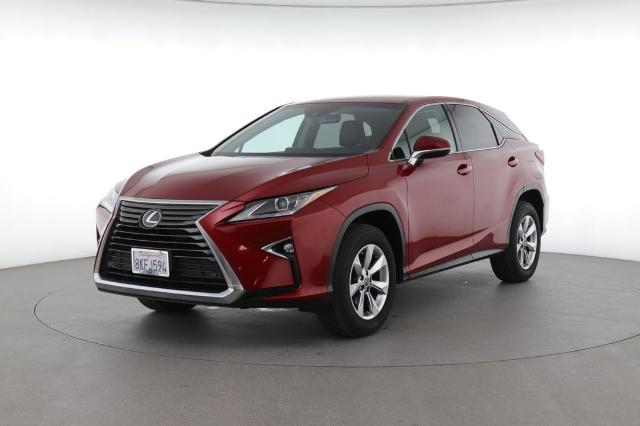lexus: (92, 97, 550, 338)
